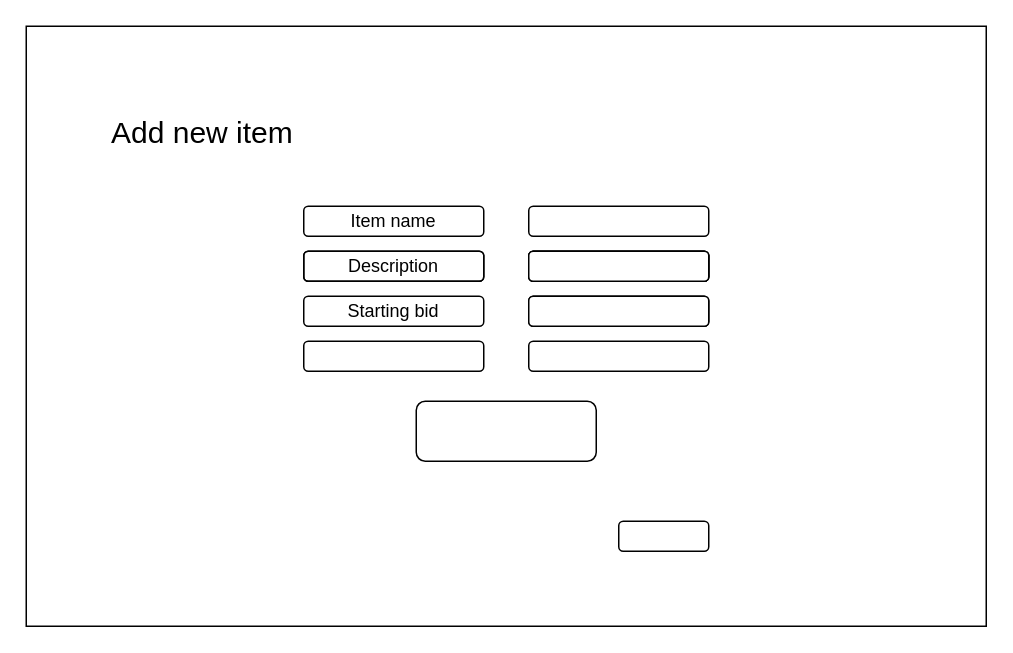
Image size: 1013x653. Some labels were removed from this diagram. Each missing label, with the box of its shape:
Add item: (617, 520, 709, 551)
Upload Photo: (415, 400, 596, 461)
